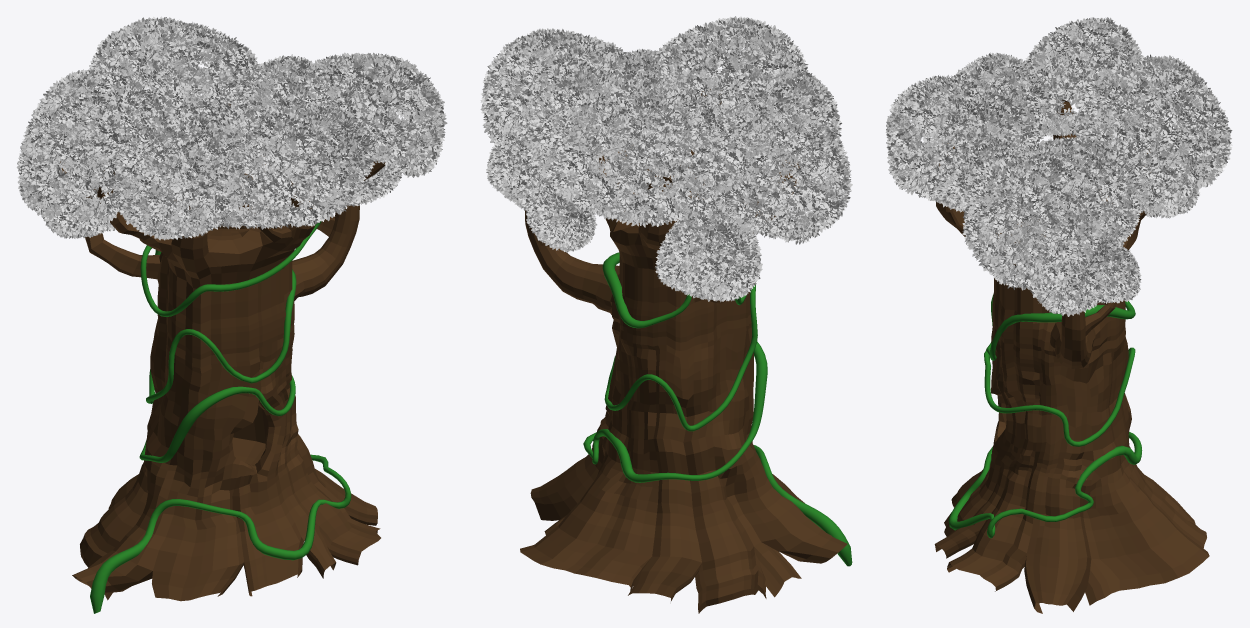
Rendered from Arbol.fbx.
3 renders of one model, left to right at view 1: azimuth 30°, elevation 25°; view 2: azimuth 150°, elevation 25°; view 3: azimuth 270°, elevation 25°, orthographic. The views are drawn at different scales.
Visible parts, largest first — view 1: Cylinder, Plane.011, Plane.009, Plane.001, Plane.004, Plane.010, BézierCurve.001, Plane.006, Plane.008, Plane.003, Plane.007; view 2: Cylinder, Plane.001, Plane.011, Plane.004, Plane.009, BézierCurve.001, Plane.007, Plane.006, Plane.010, Plane.005, Plane.003, Plane.008; view 3: Cylinder, Plane.001, Plane.004, Plane.009, Plane.011, BézierCurve.001, Plane.006, Plane.003, Plane.010, Plane.008, Plane.005, Plane.007.
Boxes of the visible parts, x1=… form: Cylinder: x1=59, y1=103, x2=385, y2=601; Plane.011: x1=16, y1=67, x2=177, y2=231; Plane.009: x1=199, y1=104, x2=359, y2=229; Plane.001: x1=75, y1=16, x2=264, y2=142; Plane.004: x1=300, y1=52, x2=447, y2=177; Plane.010: x1=117, y1=112, x2=239, y2=240; BézierCurve.001: x1=90, y1=221, x2=351, y2=613; Plane.006: x1=231, y1=54, x2=337, y2=151; Plane.008: x1=285, y1=103, x2=376, y2=195; Plane.003: x1=347, y1=127, x2=402, y2=206; Plane.007: x1=43, y1=151, x2=114, y2=238; Cylinder: x1=520, y1=86, x2=847, y2=613; Plane.001: x1=542, y1=78, x2=735, y2=227; Plane.011: x1=694, y1=80, x2=852, y2=244; Plane.004: x1=480, y1=28, x2=627, y2=143; Plane.009: x1=653, y1=16, x2=808, y2=127; BézierCurve.001: x1=583, y1=252, x2=852, y2=566; Plane.007: x1=655, y1=201, x2=762, y2=302; Plane.006: x1=526, y1=69, x2=643, y2=179; Plane.010: x1=721, y1=58, x2=841, y2=179; Plane.005: x1=525, y1=184, x2=597, y2=252; Plane.003: x1=486, y1=128, x2=550, y2=210; Plane.008: x1=602, y1=48, x2=694, y2=114; Cylinder: x1=934, y1=99, x2=1209, y2=613; Plane.001: x1=1074, y1=54, x2=1232, y2=213; Plane.004: x1=962, y1=144, x2=1103, y2=290; Plane.009: x1=885, y1=75, x2=1037, y2=202; Plane.011: x1=1016, y1=17, x2=1164, y2=137; BézierCurve.001: x1=948, y1=294, x2=1142, y2=538; Plane.006: x1=1024, y1=136, x2=1142, y2=246; Plane.003: x1=1030, y1=231, x2=1127, y2=316; Plane.010: x1=931, y1=52, x2=1055, y2=147; Plane.008: x1=932, y1=139, x2=1029, y2=212; Plane.005: x1=1097, y1=245, x2=1141, y2=303; Plane.007: x1=1120, y1=127, x2=1200, y2=218.
Size of the model in its own units: 2922 by 3718 by 2372.
